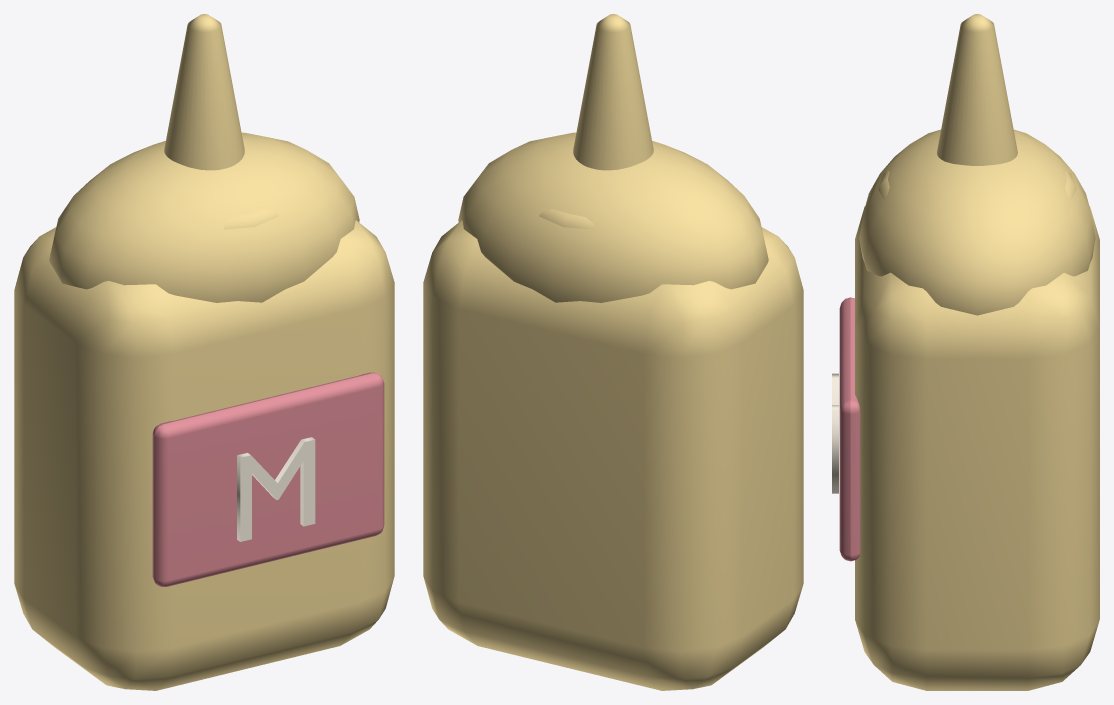
The model's file is Mustard.fbx.
3 renders of one model, left to right at view 1: azimuth 30°, elevation 25°; view 2: azimuth 150°, elevation 25°; view 3: azimuth 270°, elevation 25°, orthographic.
Visible parts, largest first — view 1: Bottle body, Bottle shoulder, Red label, Tapered nozzle, M, Lid; view 2: Bottle body, Bottle shoulder, Tapered nozzle, Lid; view 3: Bottle body, Bottle shoulder, Tapered nozzle, Red label, M, Lid.
Boxes of the visible parts, left/top/right/bottom form: Bottle body: left=14, top=220, right=394, bottom=690; Bottle shoulder: left=49, top=132, right=359, bottom=302; Red label: left=152, top=372, right=384, bottom=586; Tapered nozzle: left=164, top=14, right=244, bottom=170; M: left=237, top=437, right=315, bottom=541; Lid: left=224, top=209, right=278, bottom=229; Bottle body: left=423, top=220, right=803, bottom=690; Bottle shoulder: left=458, top=132, right=768, bottom=302; Tapered nozzle: left=573, top=14, right=653, bottom=170; Lid: left=539, top=209, right=593, bottom=229; Bottle body: left=855, top=206, right=1099, bottom=690; Bottle shoulder: left=859, top=129, right=1095, bottom=315; Tapered nozzle: left=937, top=14, right=1017, bottom=165; Red label: left=839, top=297, right=860, bottom=561; M: left=832, top=373, right=838, bottom=493; Lid: left=878, top=170, right=1076, bottom=199.
Bounding box in the file's own units: 42 × 31.7 × 81.5.
